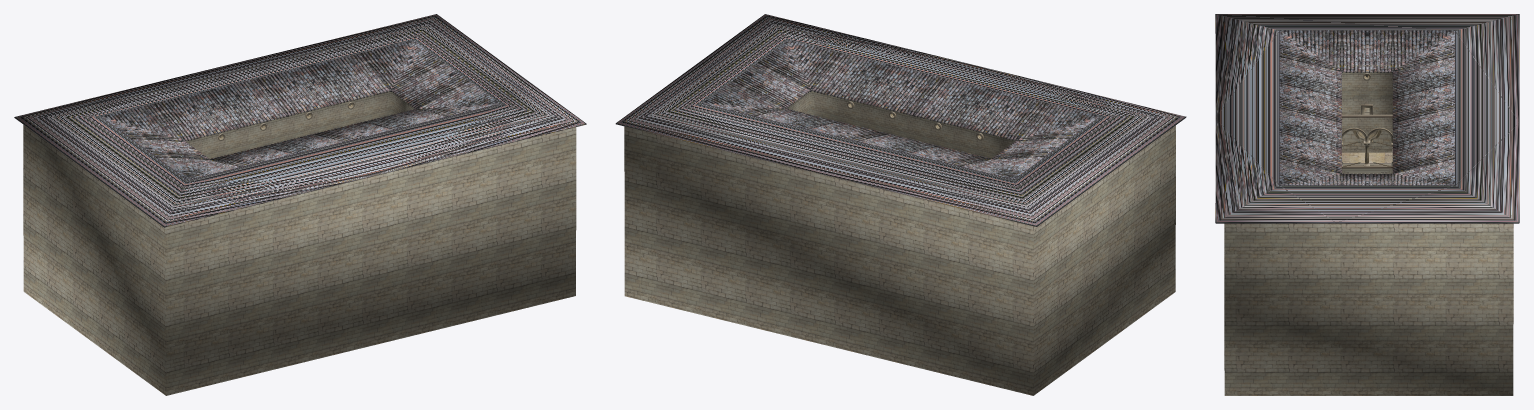
Rendered from sponza.glb.
The picture shows the model from 3 angles, left to right: view 1: azimuth 30°, elevation 25°; view 2: azimuth 150°, elevation 25°; view 3: azimuth 270°, elevation 25°; orthographic projection.
Visible parts, largest first — view 1: sponza_116, sponza_380; view 2: sponza_116, sponza_380; view 3: sponza_380, sponza_116, sponza_122, sponza_117.
Part boxes in pixels (box(x1,y1,x2,y2)): sponza_116: box(23, 91, 576, 395); sponza_380: box(14, 14, 586, 227); sponza_116: box(624, 91, 1175, 395); sponza_380: box(615, 14, 1186, 226); sponza_380: box(1215, 14, 1519, 223); sponza_116: box(1224, 17, 1513, 395); sponza_122: box(1342, 73, 1392, 168); sponza_117: box(1341, 152, 1392, 162).
Bounding box in the file's own units: 3721 × 1556 × 2288.
Materials: 25 (24 with a texture image).
